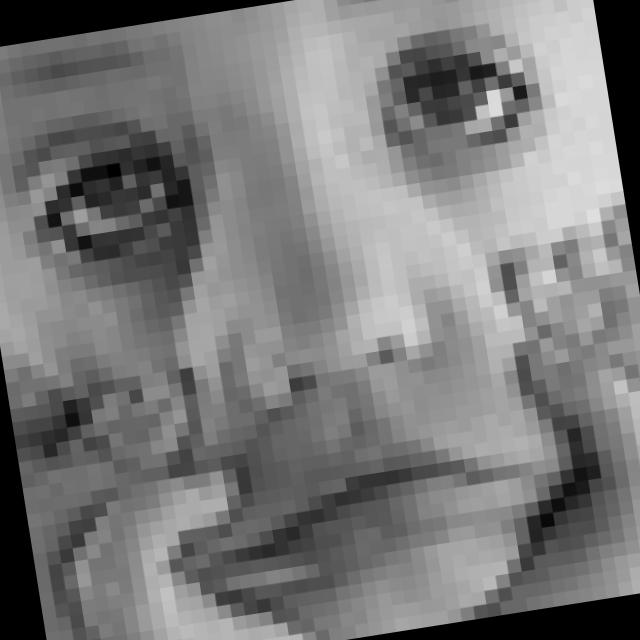sad: (0, 0, 610, 633)
